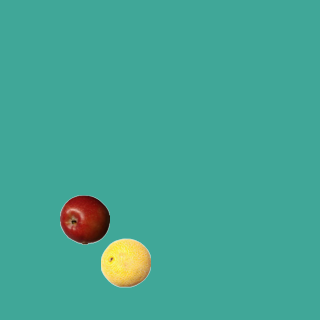Apple Braeburn: (59, 194, 109, 244)
Cantaloupe 1: (100, 237, 150, 287)
